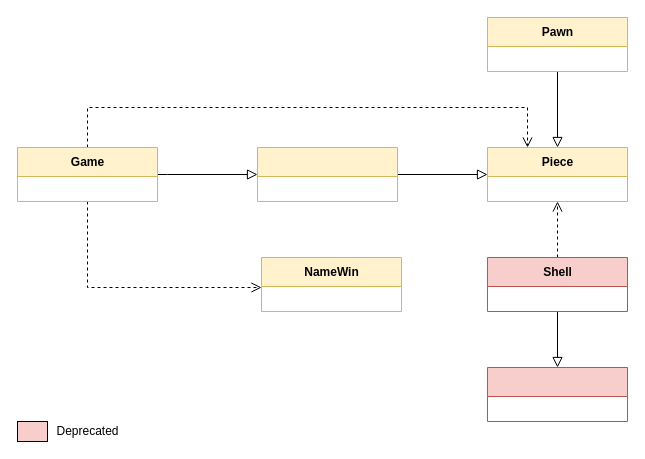
The diagram is 645 pixels wide and 459 high, and some of its shapes have lost their labels. The centre of each missing label's shape, as x and y in pixels:
"GUI" goes at pixel 557 394.
"PawnChess" goes at pixel 327 174.
